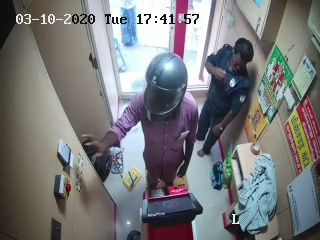helmet: (138, 53, 191, 119)
